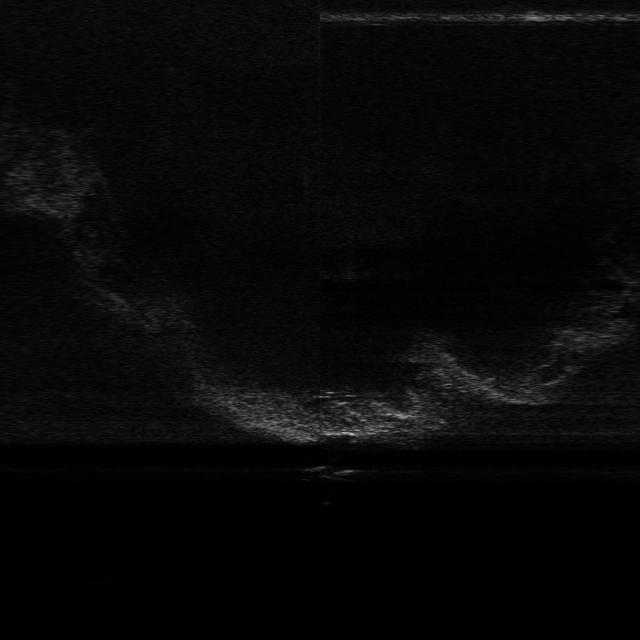plane: (298, 462, 368, 485)
